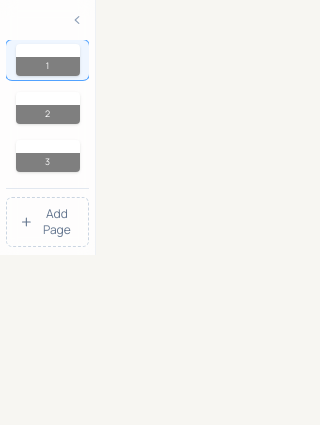
Test: PageThumbnails › page actions › should show action buttons on hover
Simulate hover
Hover over the element named "thumb-1": [48, 60] box [6, 40, 89, 80]
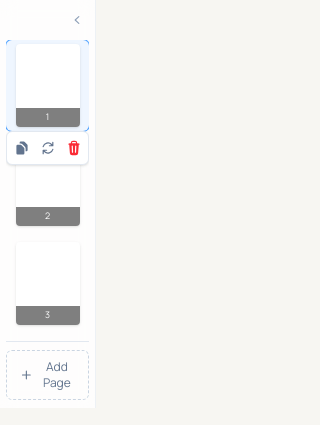
Now the button titled "Duplicate page" is shown, box [10, 136, 34, 160]
Now the button titled "Rotate 90° clockwise" is shown, box [36, 136, 60, 160]
Now the button titled "Delete page" is shown, box [62, 136, 86, 160]
